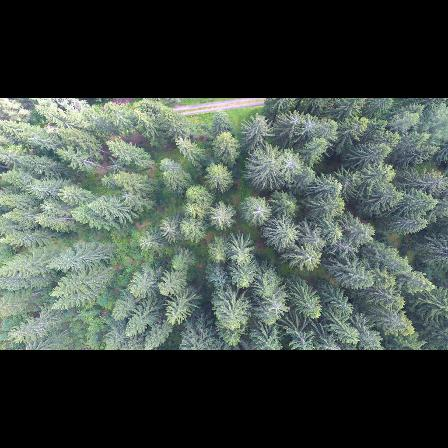Sick: (264, 290, 287, 318), (249, 200, 271, 224), (303, 117, 318, 132), (287, 113, 302, 126)
